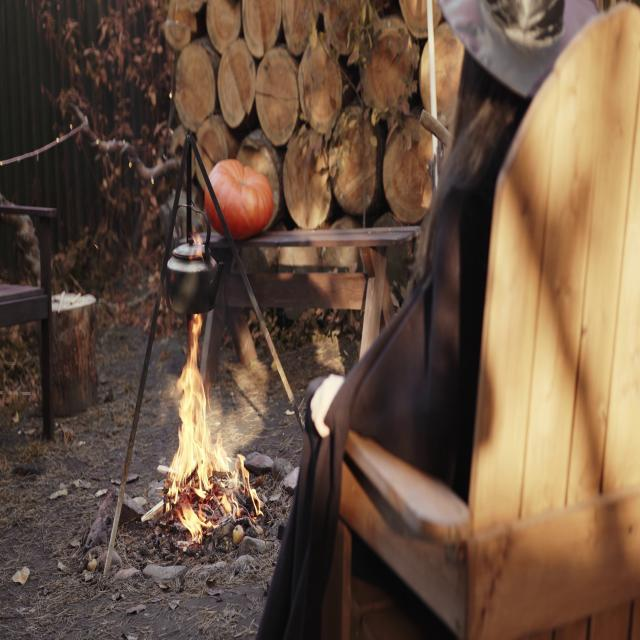Fire: (152, 298, 268, 536)
